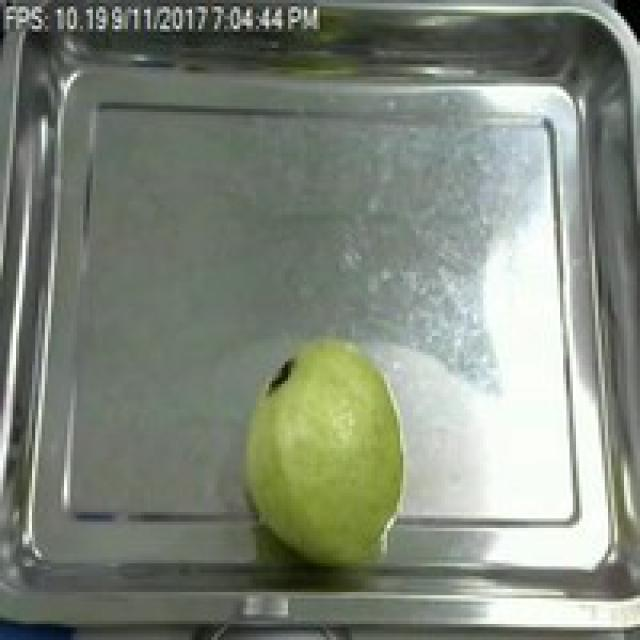Fruit: (227, 326, 416, 570)
